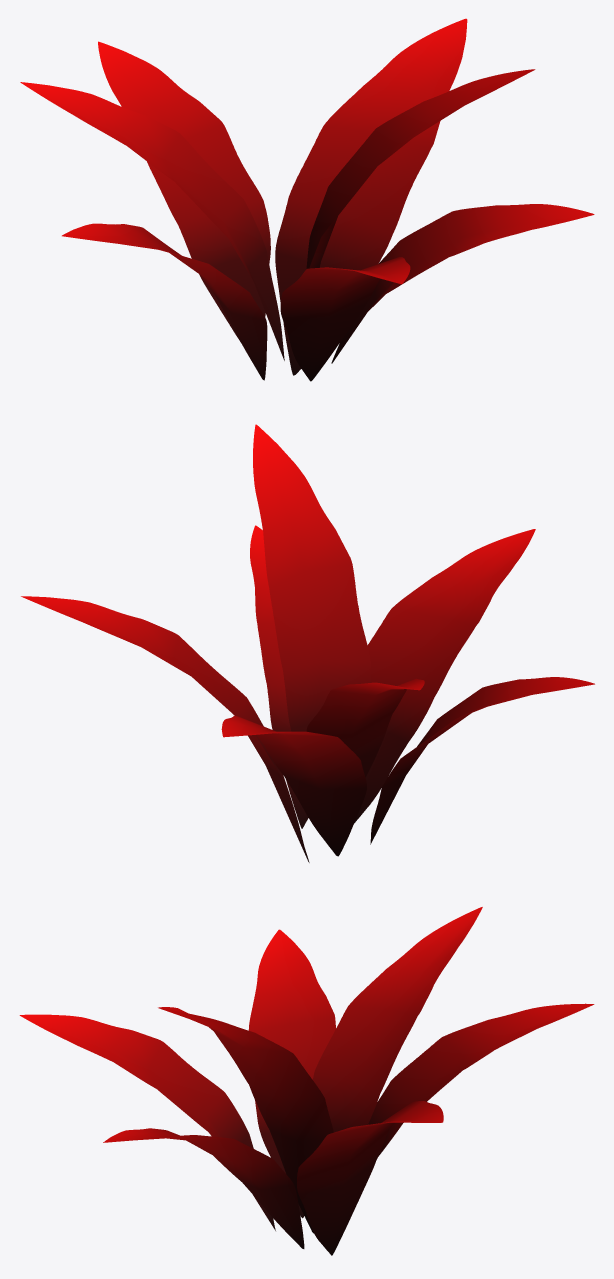
The model's file is MediumLeafCluster.fbx.
3 renders of one model, top to bottom at view 1: azimuth 30°, elevation 25°; view 2: azimuth 150°, elevation 25°; view 3: azimuth 270°, elevation 25°, orthographic. The views are drawn at different scales.
Visible parts, largest first — view 1: MediumLeafCluster; view 2: MediumLeafCluster; view 3: MediumLeafCluster.
Boxes of the visible parts, box(x1,y1,x2,y2) form: MediumLeafCluster: box(20, 18, 594, 381); MediumLeafCluster: box(21, 424, 594, 862); MediumLeafCluster: box(19, 907, 594, 1255).
Bounding box in the file's own units: 227 × 153 × 247.
